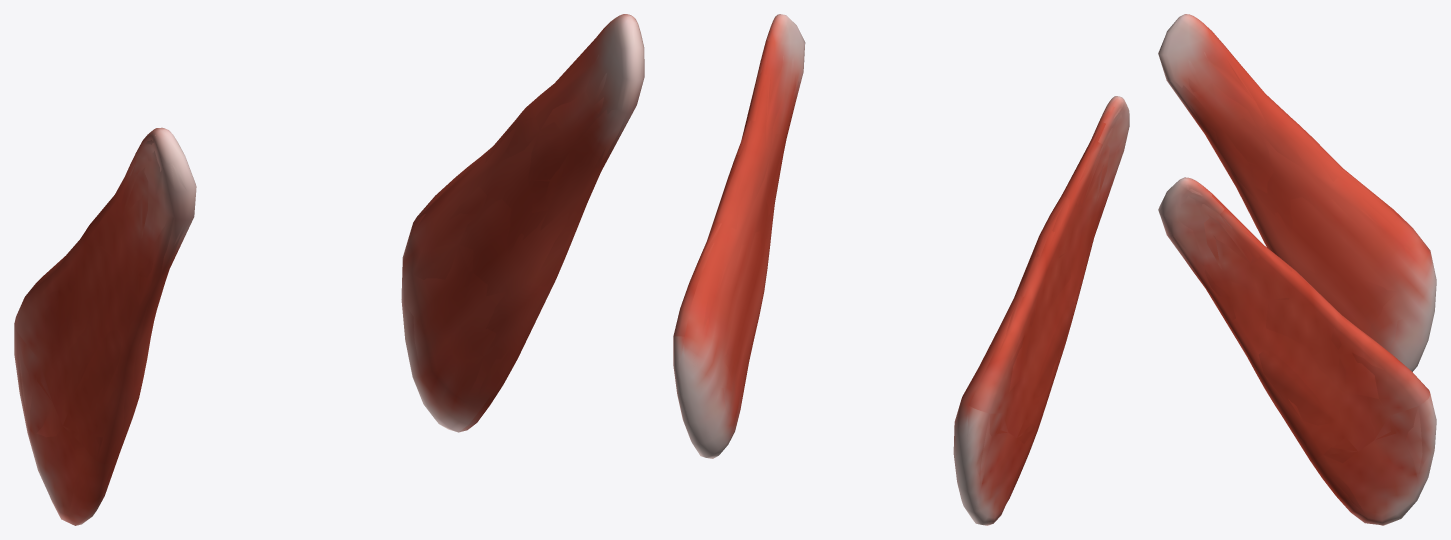
The model's file is musculus pterygoideus lateralis.fbx.
The picture shows the model from 3 angles, left to right: view 1: azimuth 30°, elevation 25°; view 2: azimuth 150°, elevation 25°; view 3: azimuth 270°, elevation 25°; orthographic projection. The views are drawn at different scales.
Parts seen in each view (by area): view 1: musculus pterygoideus lateralis, musculus pterygoideus lateralis low; view 2: musculus pterygoideus lateralis, musculus pterygoideus lateralis low; view 3: musculus pterygoideus lateralis, musculus pterygoideus lateralis low.
Boxes of the visible parts, <box> form: musculus pterygoideus lateralis: <box>14,14,644,525</box>; musculus pterygoideus lateralis low: <box>14,15,642,525</box>; musculus pterygoideus lateralis: <box>673,14,1129,525</box>; musculus pterygoideus lateralis low: <box>673,15,1127,525</box>; musculus pterygoideus lateralis: <box>1158,14,1436,525</box>; musculus pterygoideus lateralis low: <box>1159,14,1436,524</box>.
Bounding box in the file's own units: 20.64 × 20.6 × 14.34.
